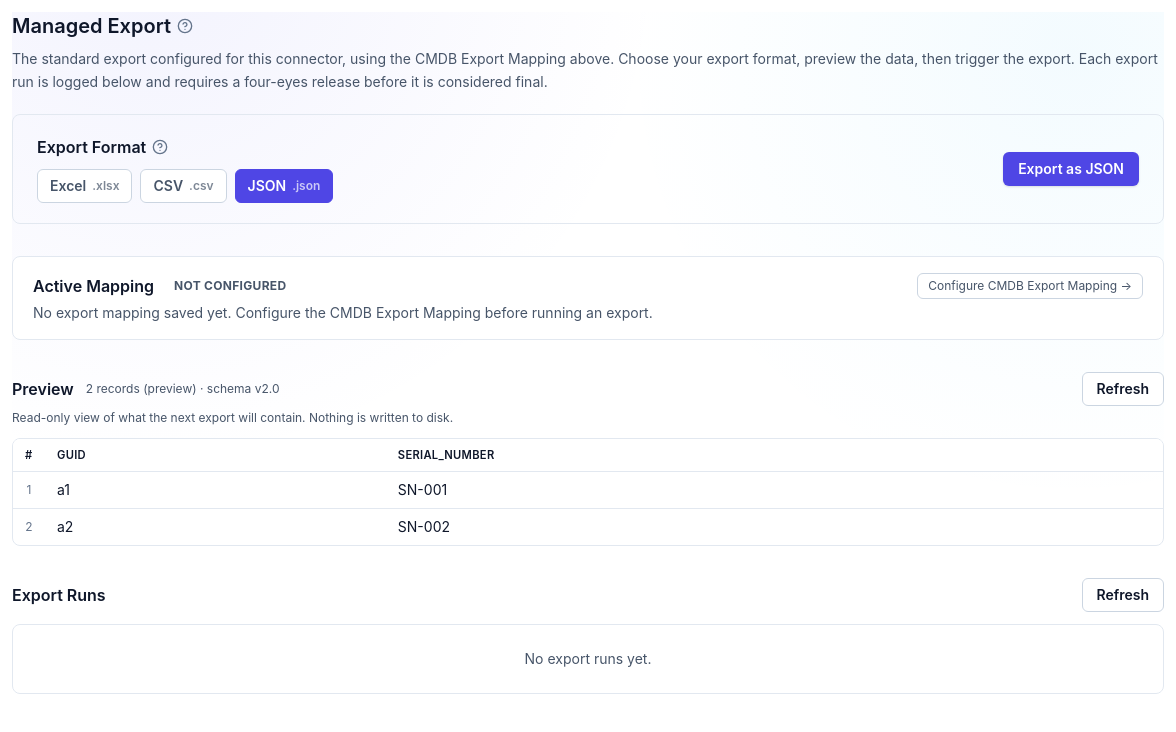
Test: ExportView › shows error banner when runNow fails
Click the button "Export as JSON": (1071, 168) [1003,152,1139,186]
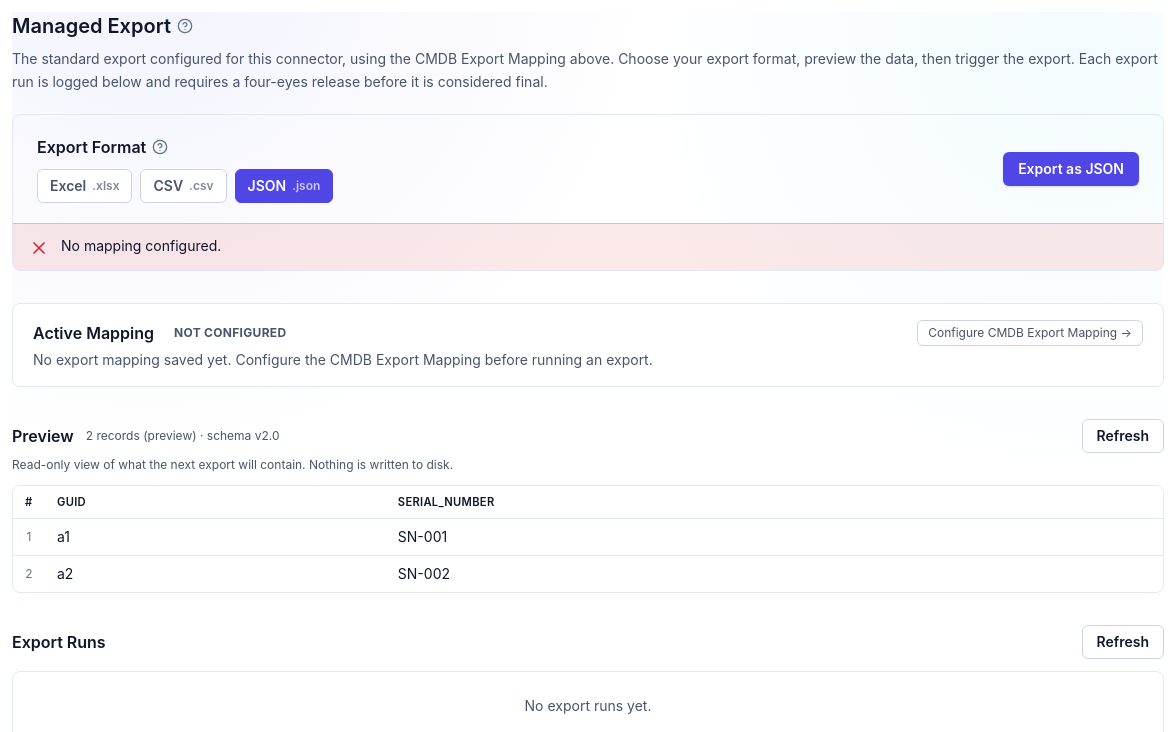
Expected: the text "No mapping configured." is shown, [61,236,221,254]
